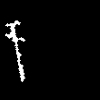double_crochet: (5, 21, 24, 81)
